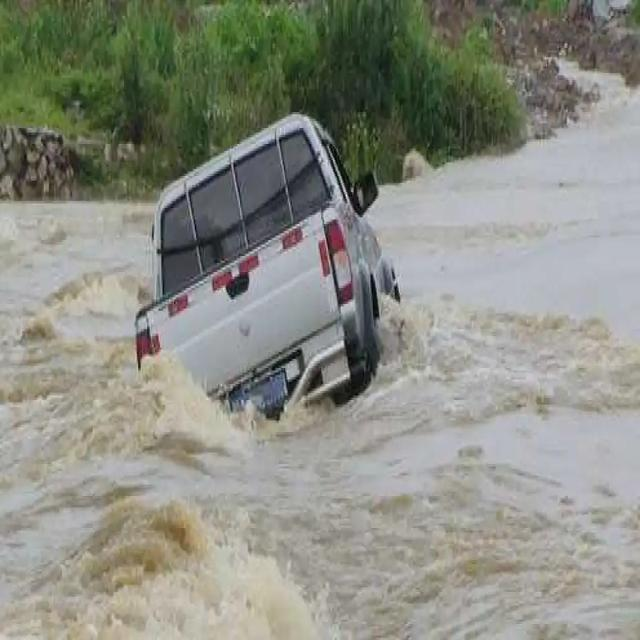Car-RiskLevel3: (131, 106, 425, 411)
